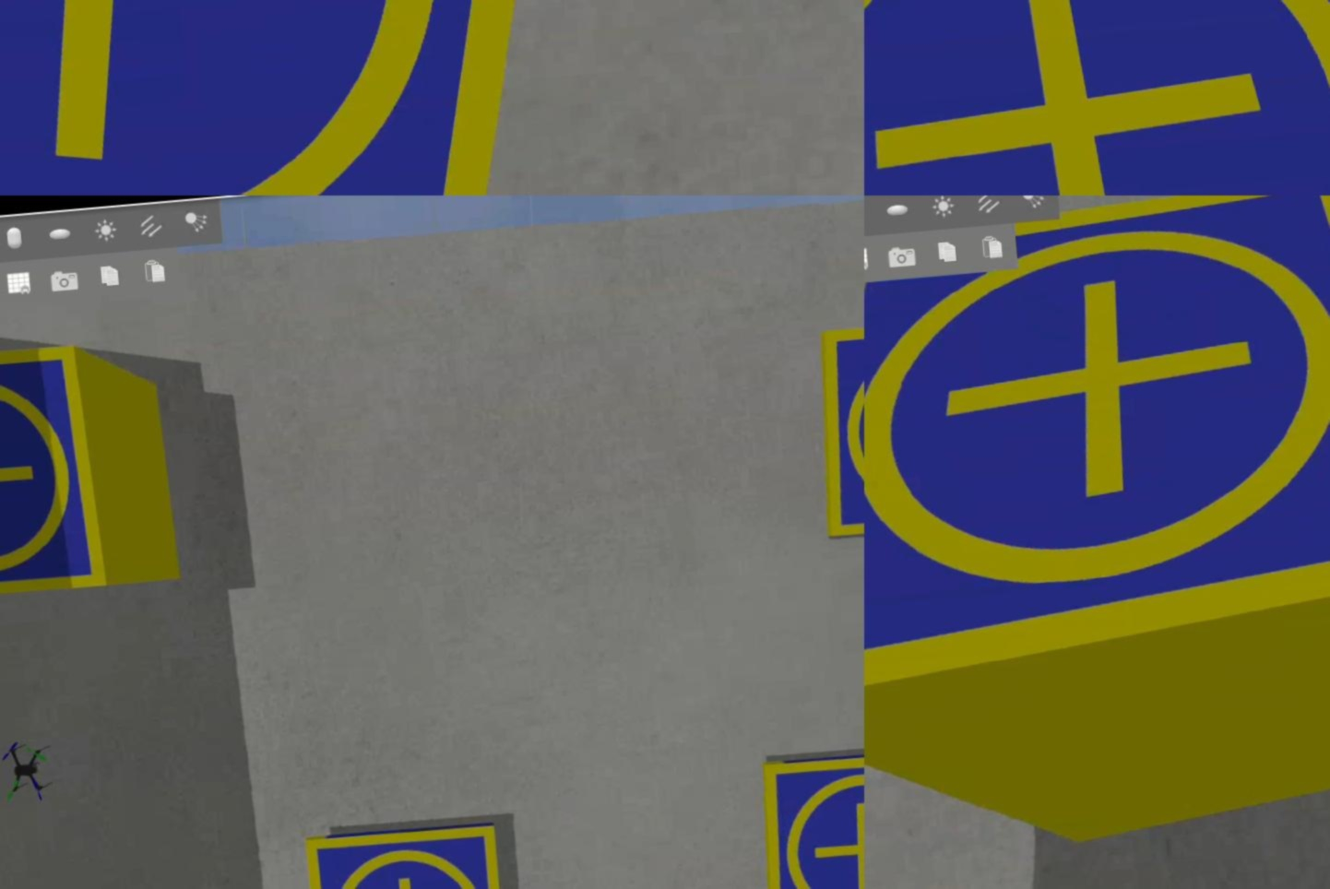small_base: (865, 196, 1330, 732), (1, 1, 661, 196), (865, 1, 1330, 196), (1, 338, 118, 619), (752, 746, 865, 889), (303, 823, 513, 889), (813, 306, 865, 542)
